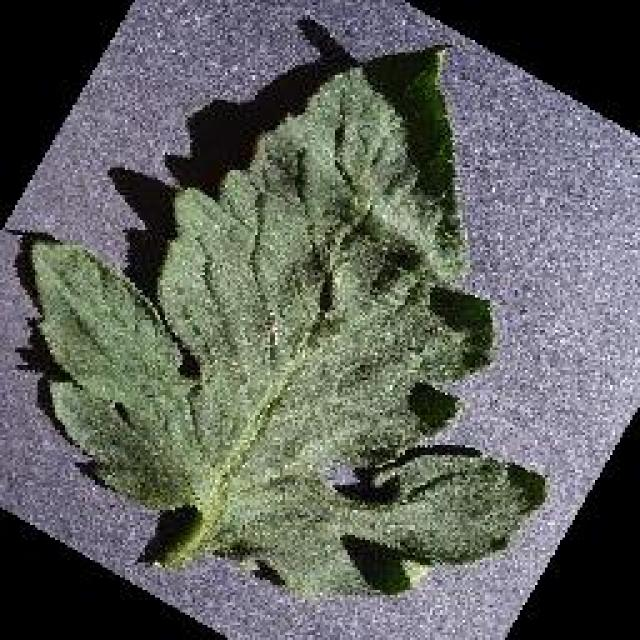Tomato___healthy: (28, 45, 552, 603)
